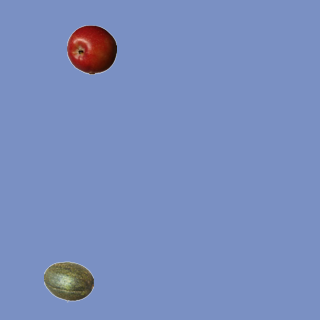Apple Braeburn: (66, 24, 116, 74)
Melon Piel de Sapo: (43, 256, 93, 306)
